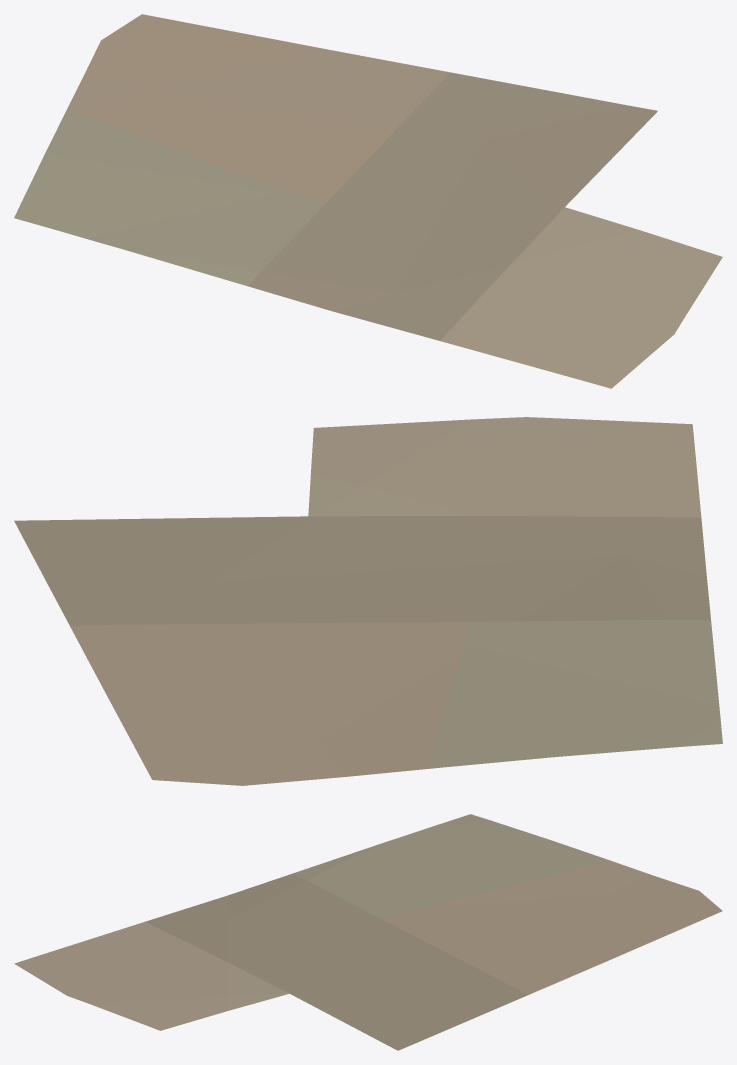
The model's file is farm_11_4_soil.glb.
3 renders of one model, top to bottom at view 1: azimuth 30°, elevation 25°; view 2: azimuth 150°, elevation 25°; view 3: azimuth 270°, elevation 25°, orthographic. The views are drawn at different scales.
Visible parts, largest first — view 1: geometry_0; view 2: geometry_0; view 3: geometry_0.
Boxes of the visible parts, bbox=[...] form: geometry_0: bbox=[14, 14, 722, 388]; geometry_0: bbox=[14, 417, 722, 785]; geometry_0: bbox=[14, 814, 722, 1050].
Bounding box in the file's own units: 233 × 20.24 × 301.
